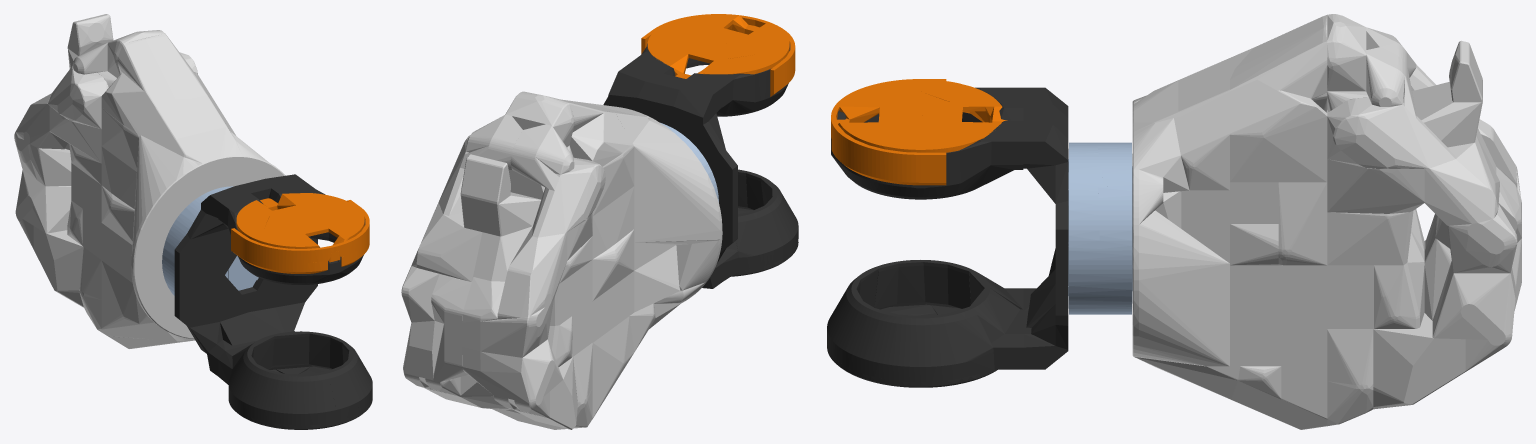
Rendered from LARM_LINK7_mesh.dae.
3 renders of one model, left to right at view 1: azimuth 30°, elevation 25°; view 2: azimuth 150°, elevation 25°; view 3: azimuth 270°, elevation 25°, orthographic. The views are drawn at different scales.
Visible parts, largest first — view 1: LARM_LINK7 (×8); view 2: LARM_LINK7 (×8); view 3: LARM_LINK7 (×8).
Boxes of the visible parts, x1=… form: LARM_LINK7 (×8): x1=14, y1=14, x2=372, y2=429; LARM_LINK7 (×8): x1=401, y1=14, x2=798, y2=429; LARM_LINK7 (×8): x1=827, y1=14, x2=1521, y2=429.
Bounding box in the file's own units: 0.1 × 0.1681 × 0.2707.
